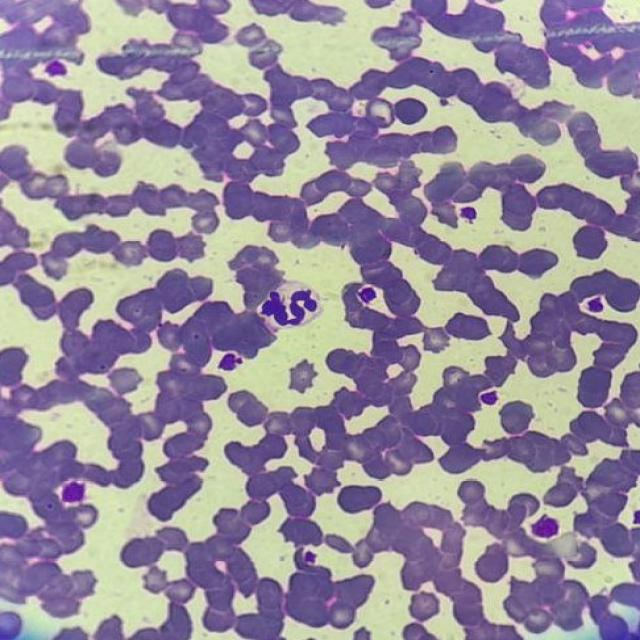Neutrofilo: (259, 279, 326, 331)
